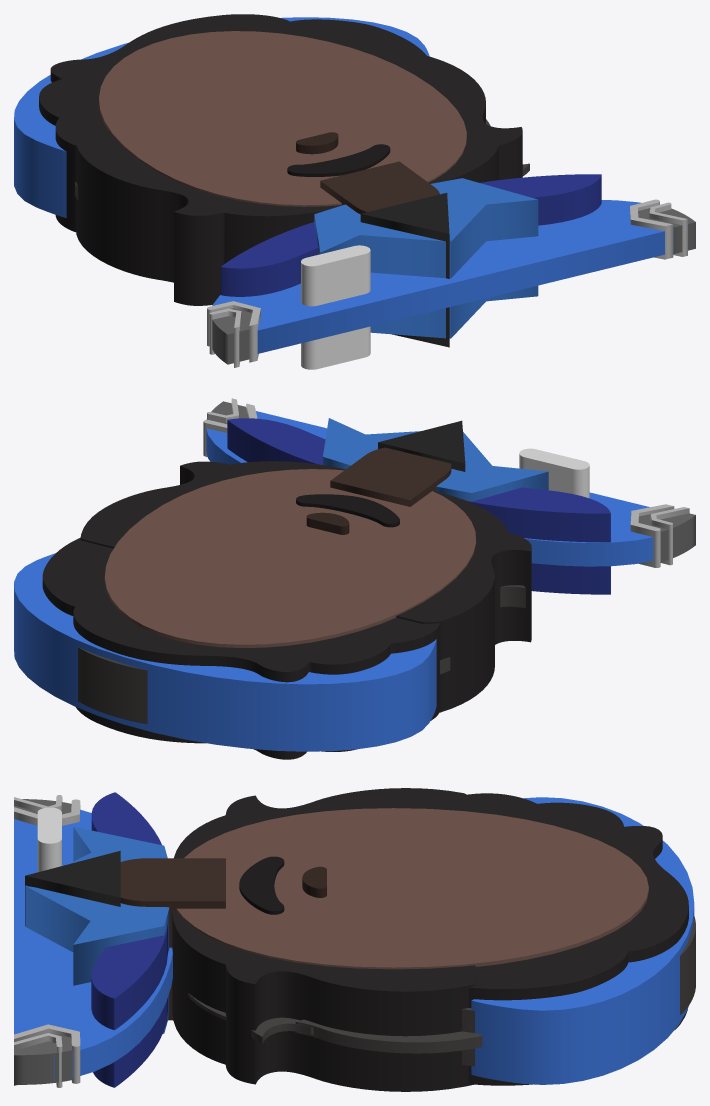
The model's file is emoji_u1f46e_1f3ff.glb.
3 views of the same model, one above another, from view 1: azimuth 30°, elevation 25°; view 2: azimuth 150°, elevation 25°; view 3: azimuth 270°, elevation 25° (orthographic). The views are drawn at different scales.
Parts seen in each view (by area): view 1: emoji_u1f46e_1f3ff; view 2: emoji_u1f46e_1f3ff; view 3: emoji_u1f46e_1f3ff.
Part boxes in pixels (bbox=[...]): emoji_u1f46e_1f3ff: bbox=[14, 14, 695, 369]; emoji_u1f46e_1f3ff: bbox=[14, 398, 695, 759]; emoji_u1f46e_1f3ff: bbox=[14, 788, 695, 1091].
Size of the model in its own units: 0.0294 by 0.0068 by 0.0333.
